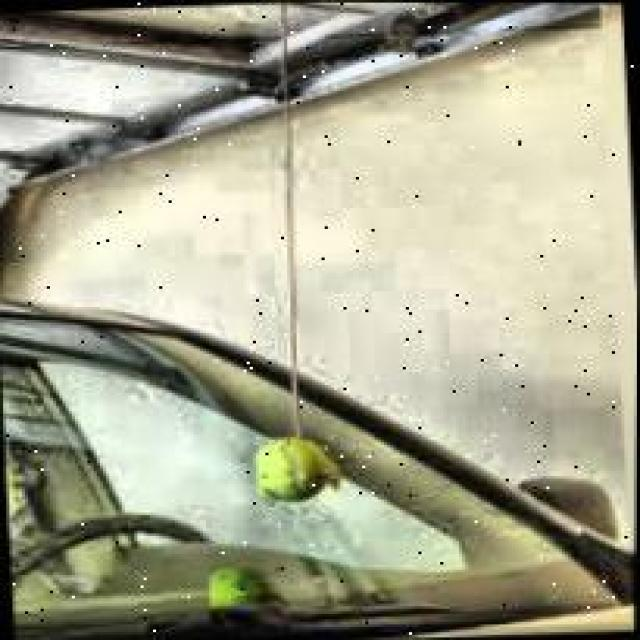tennis-ball: (257, 438, 342, 519), (211, 567, 292, 627)
